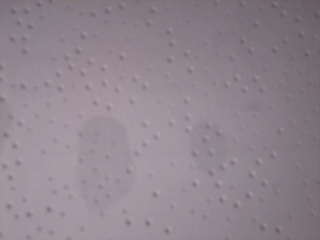Water_detected: (75, 127, 134, 199), (180, 127, 216, 167), (0, 114, 11, 154)
